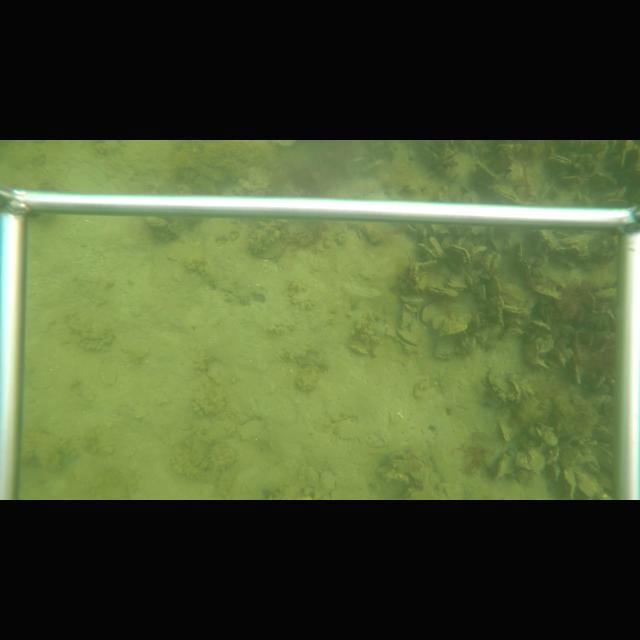Oyster-Closed: (487, 295, 506, 326), (442, 245, 472, 264), (438, 318, 468, 337), (561, 467, 578, 499), (434, 339, 457, 362), (427, 235, 447, 260), (406, 258, 422, 289), (529, 285, 562, 300), (346, 342, 371, 358), (498, 422, 514, 443), (515, 259, 531, 280), (508, 380, 521, 401)
Oyster-Open: (415, 296, 449, 325), (476, 183, 521, 204), (393, 328, 423, 347), (416, 143, 444, 161), (482, 251, 502, 273), (501, 302, 532, 316), (444, 276, 468, 294), (545, 155, 571, 169), (595, 197, 629, 207), (436, 152, 457, 165), (426, 282, 446, 295)
